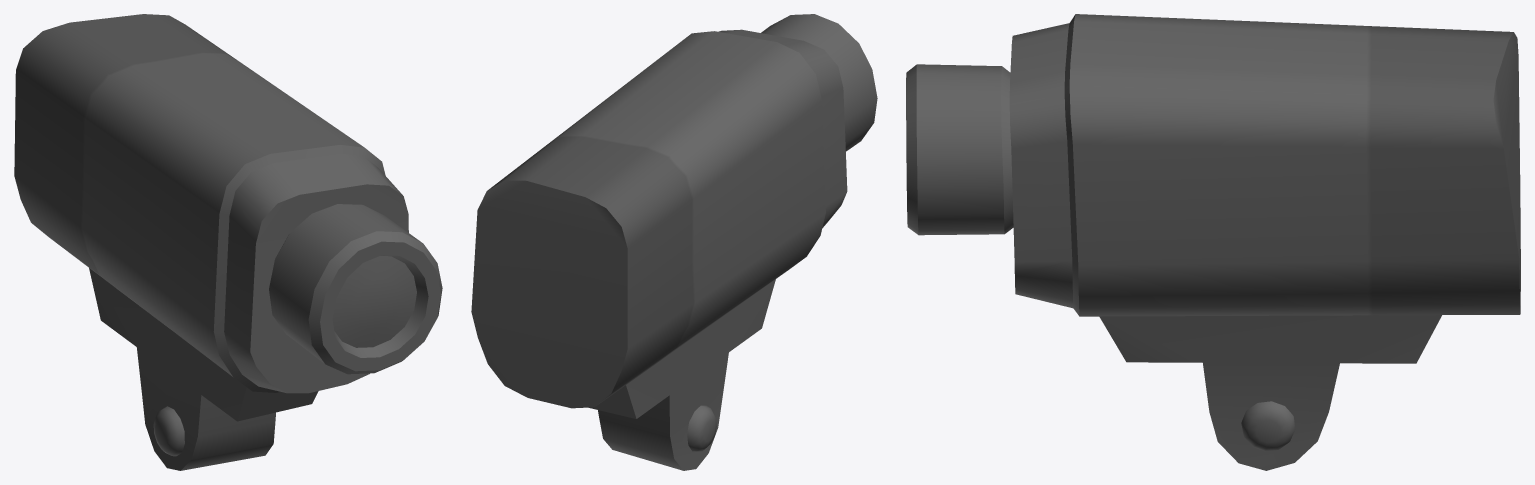
File: SM_camera.fbx
3 renders of one model, left to right at view 1: azimuth 30°, elevation 25°; view 2: azimuth 150°, elevation 25°; view 3: azimuth 270°, elevation 25°, orthographic. The views are drawn at different scales.
Visible parts, largest first — view 1: SM_camera; view 2: SM_camera; view 3: SM_camera.
Part boxes in pixels (x1,y1,x2,y2): SM_camera: (14,14,442,470); SM_camera: (471,14,877,470); SM_camera: (906,14,1520,470).
Bounding box in the file's own units: 0.0985 × 0.2068 × 0.2801.
1 material, 1 textured.
